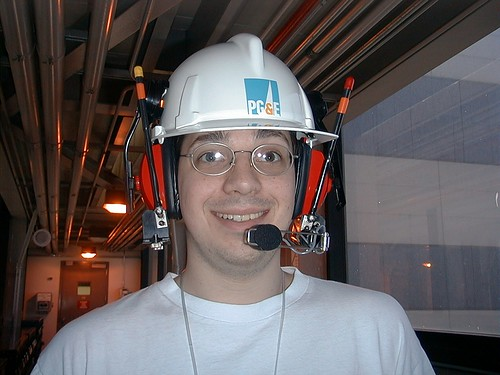person hardhat: (110, 32, 389, 375)
